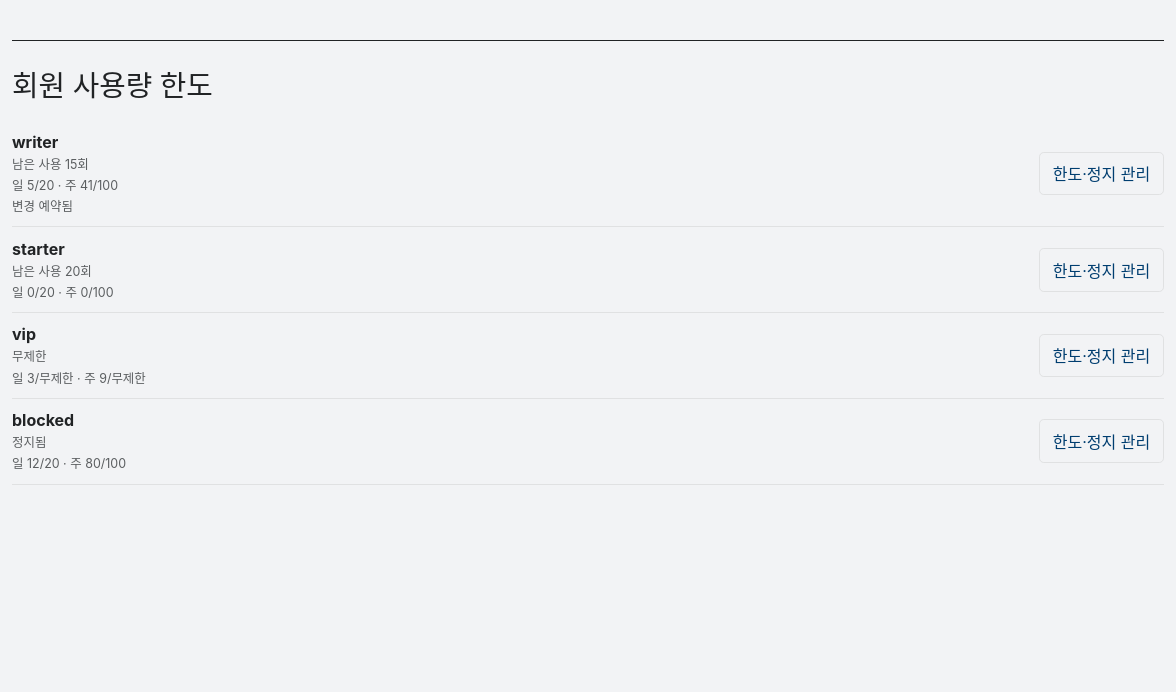
Scenario: MemberQuotaSection › sends both windows on a limit change and applies the response
Click the button "한도·정지 관리" in the row of "남은 사용 15회". click: click(1102, 173)
box: [1039,152,1164,195]
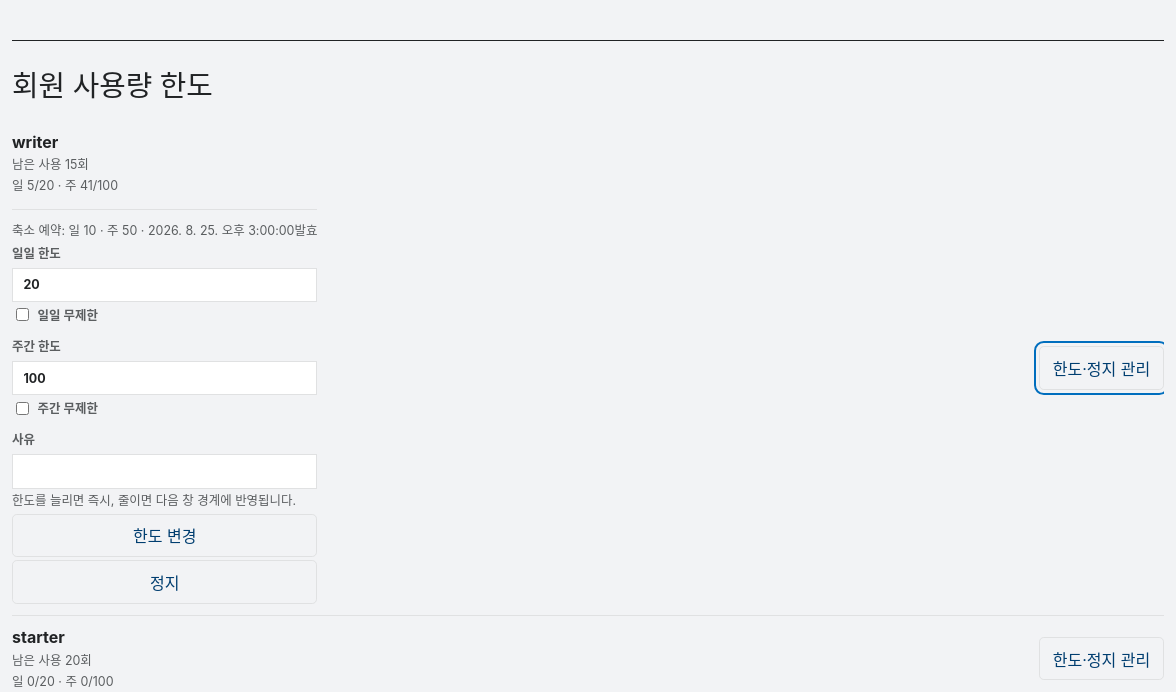
Replace the text in the field labelled "일일 한도" with "30". click: (165, 285)
box: [12,268,318,302]
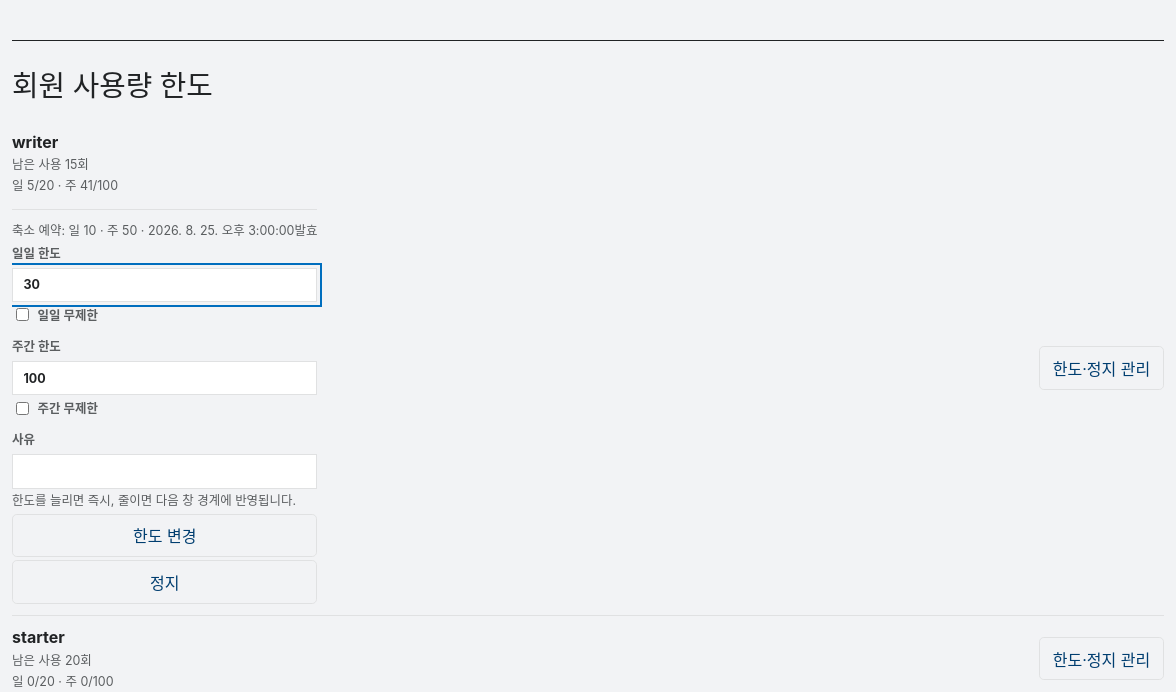
Type "이벤트 완화" into the field labelled "사유". click: (165, 471)
box: [12,454,318,489]
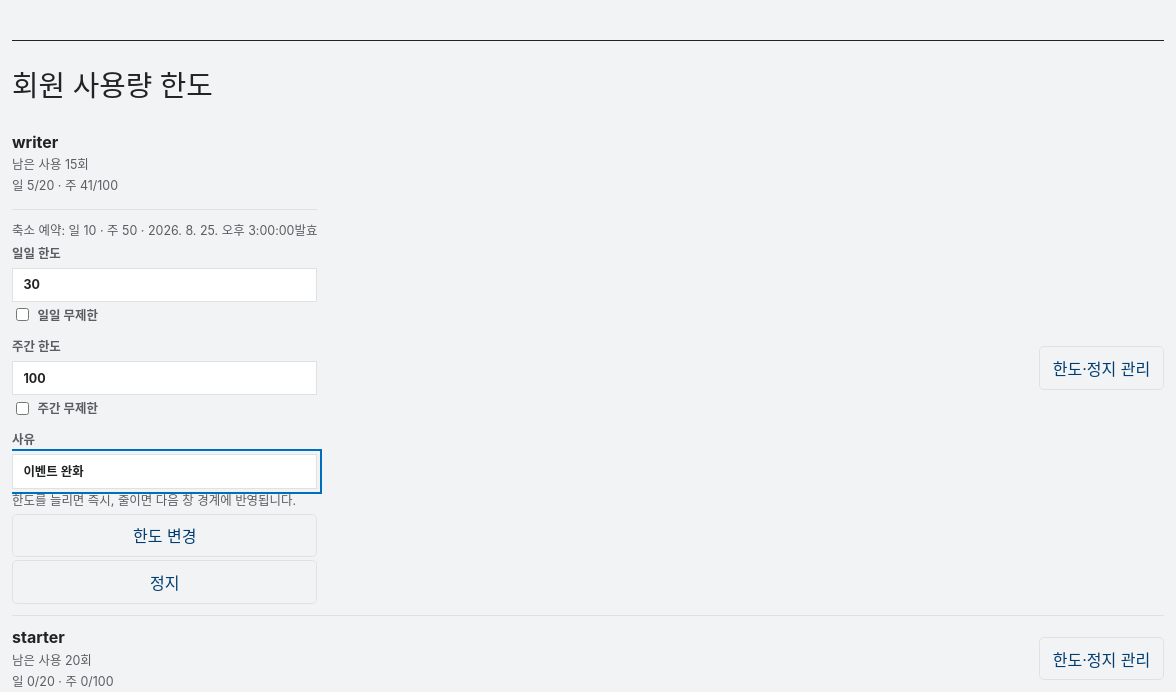
Click the button "한도 변경". click: click(165, 535)
box: [12,514,318,557]
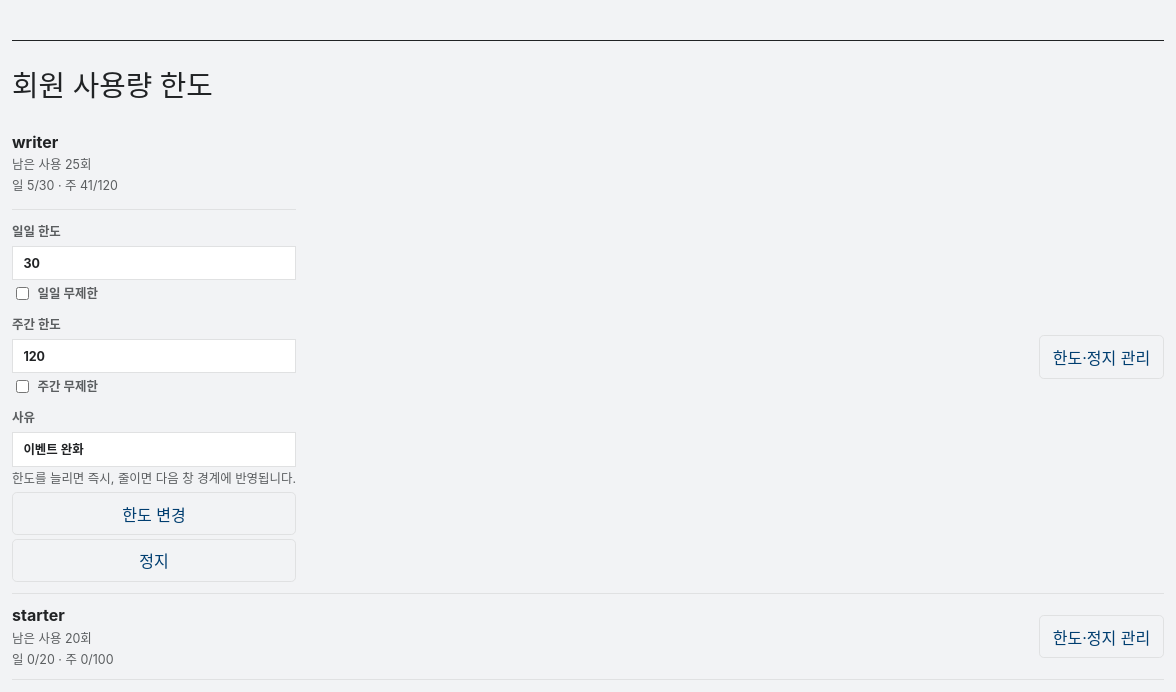
Check: the text "일 5/30 · 주 41/120" is shown, box [12,178,118,193]
